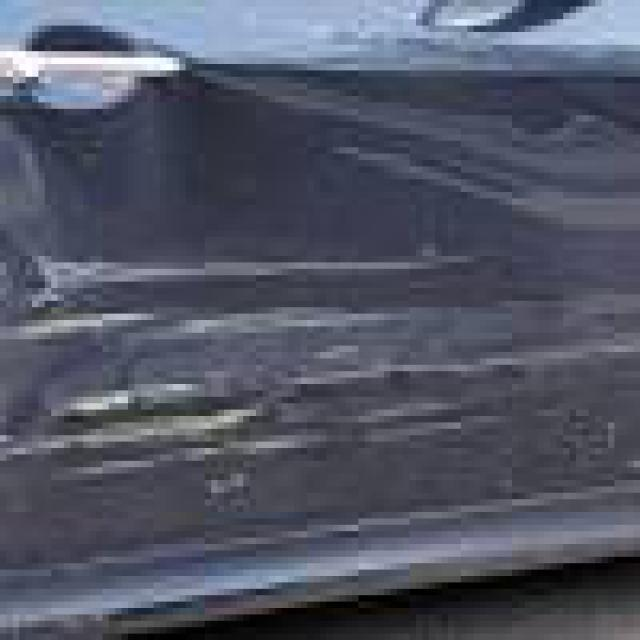doorouter-dent: (0, 0, 634, 576)
